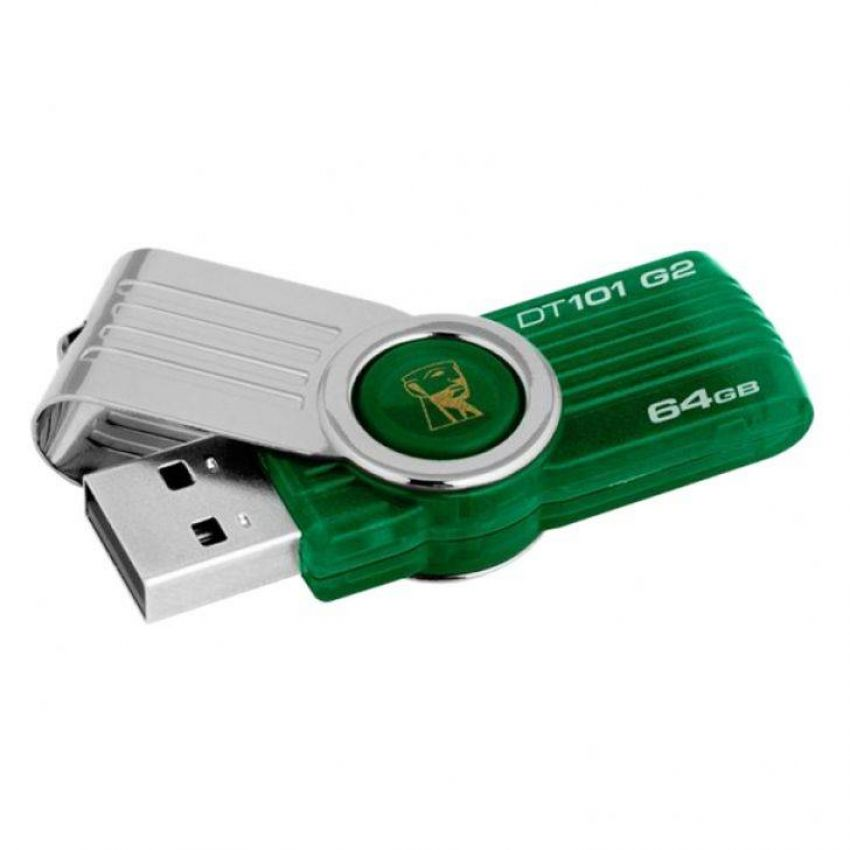Kingston: (381, 355, 494, 436)
